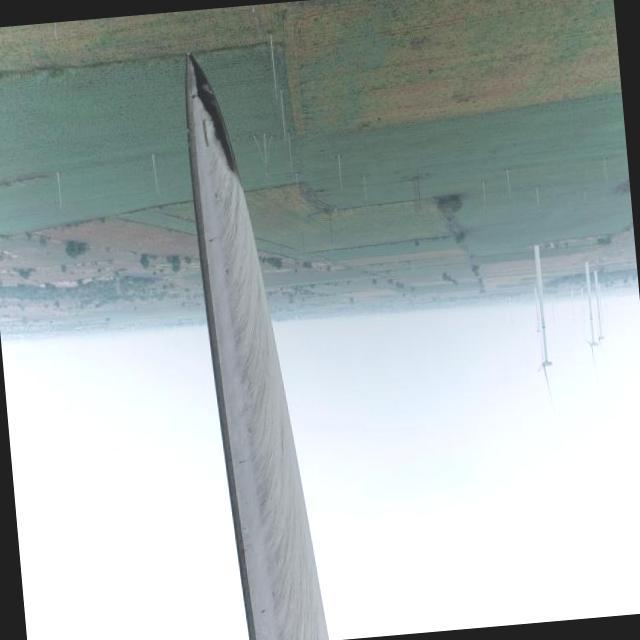Dirt: (187, 49, 329, 640)
Oil LEAKAGE: (185, 52, 239, 174)
Pin Hole: (189, 89, 200, 104)
